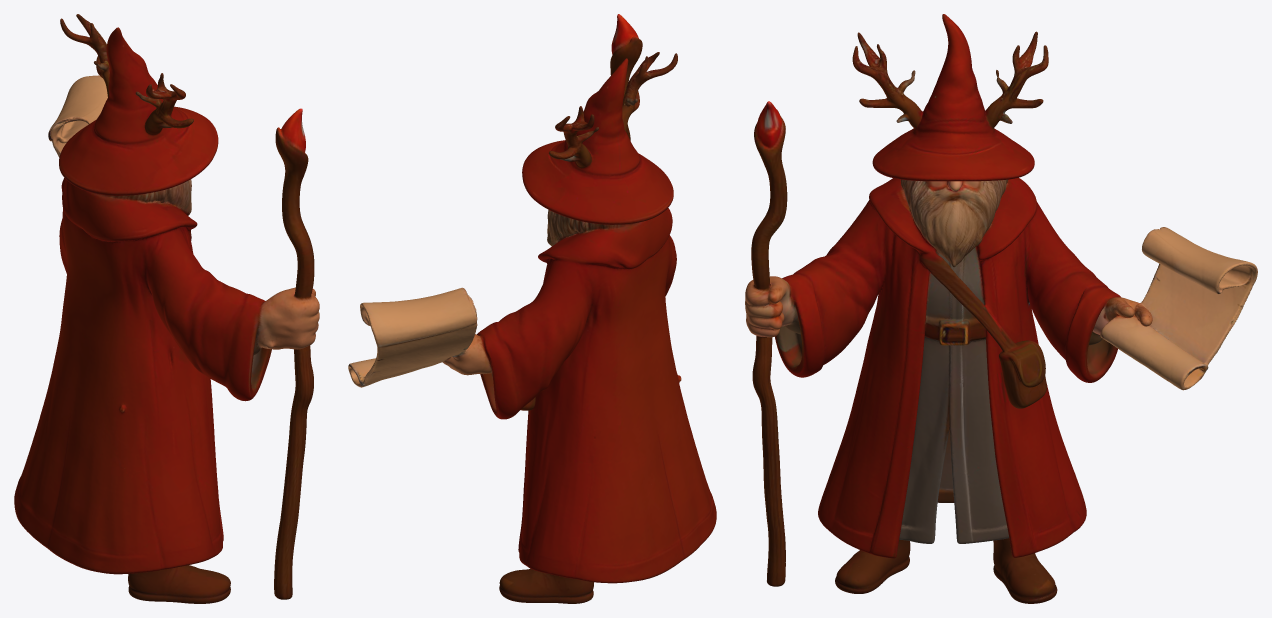
File: Red-Necromancer-figure.glb
3 renders of one model, left to right at view 1: azimuth 30°, elevation 25°; view 2: azimuth 150°, elevation 25°; view 3: azimuth 270°, elevation 25°, orthographic. The views are drawn at different scales.
Visible parts, largest first — view 1: tripo_node_21a91acd-5138-415e-876d-9119300c4f23; view 2: tripo_node_21a91acd-5138-415e-876d-9119300c4f23; view 3: tripo_node_21a91acd-5138-415e-876d-9119300c4f23.
Boxes of the visible parts, x1,y1,x2,y2 form: tripo_node_21a91acd-5138-415e-876d-9119300c4f23: (14,14,319,603); tripo_node_21a91acd-5138-415e-876d-9119300c4f23: (348,14,716,603); tripo_node_21a91acd-5138-415e-876d-9119300c4f23: (745,14,1257,603).
Size of the model in its own units: 0.4585 by 1 by 0.8464.
1 material, 1 textured.
